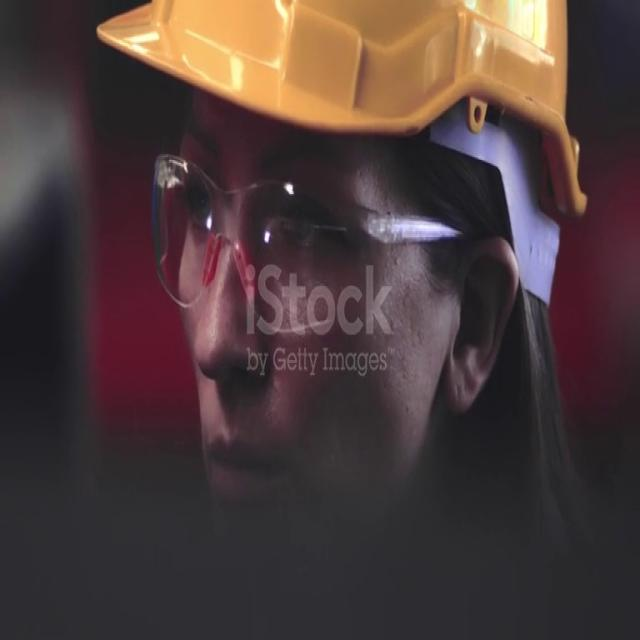capacete: (79, 2, 606, 269)
